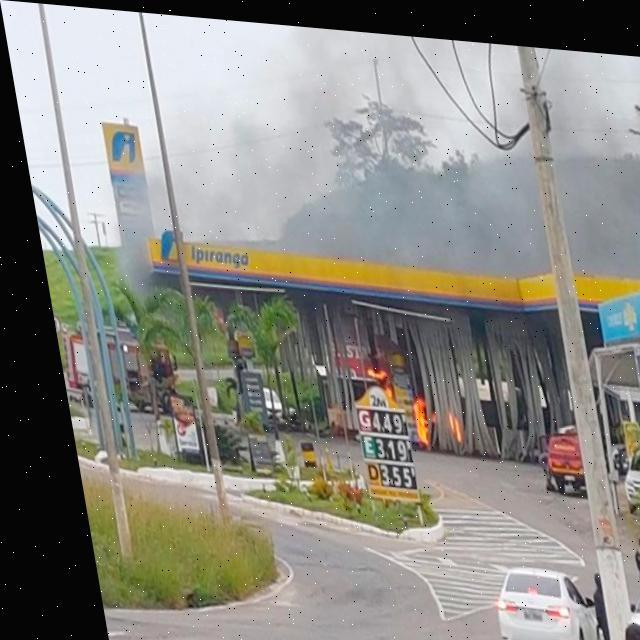Fire: (394, 389, 421, 439)
